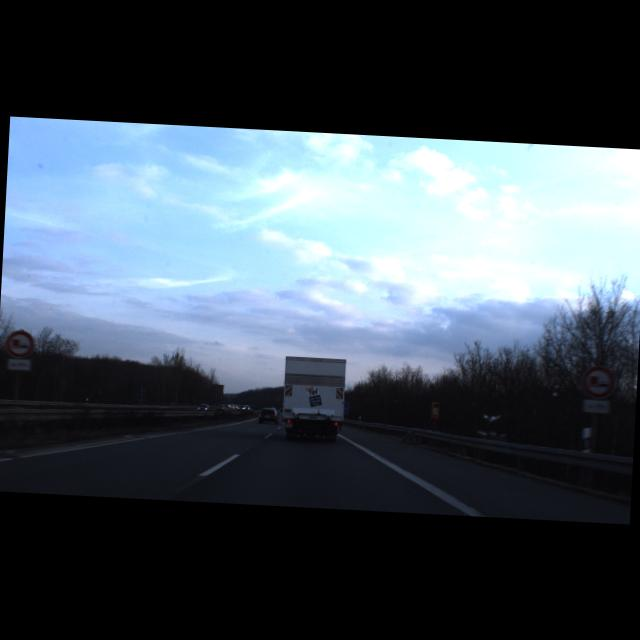prohibitory: (582, 364, 616, 399), (5, 329, 36, 358)
